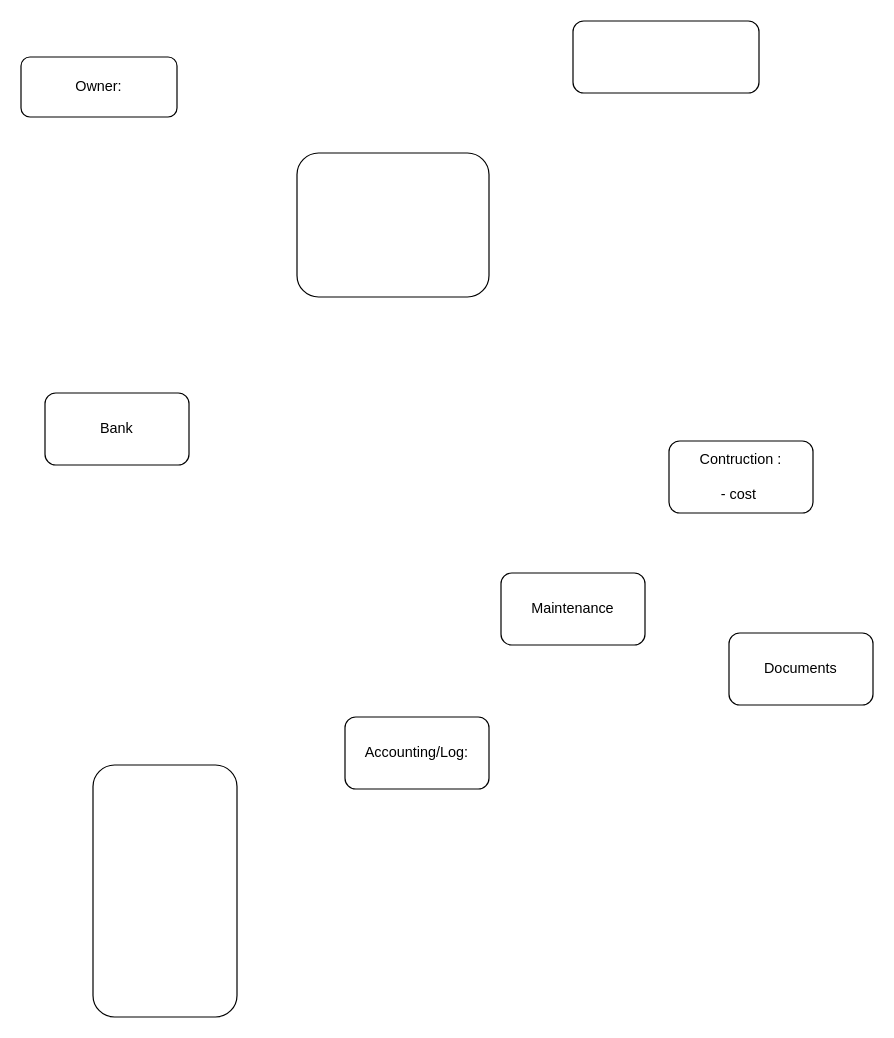
Image size: 894x1038. Some labels were removed from this diagram. Each missing label, with the centre of its shape:
"Deposit" goes at pixel 665 56.
"Property: type address blueprint size no. rooms no. toilets shower n bath" goes at pixel 164 890.
"Tenant Lease agreement: amount: no. months:" goes at pixel 392 224.
